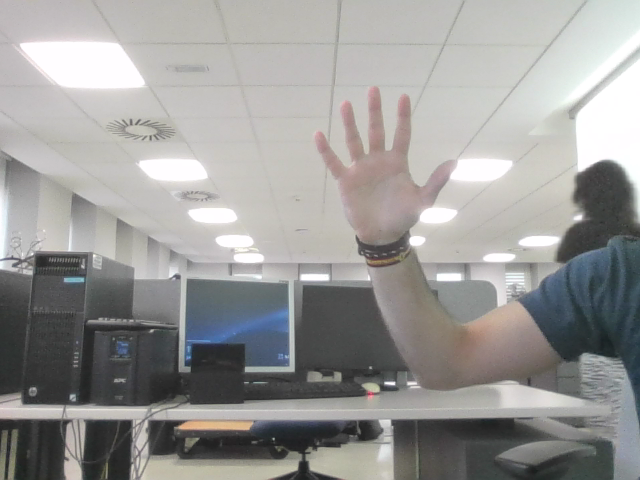Mano Abierta: (323, 98, 442, 214)
